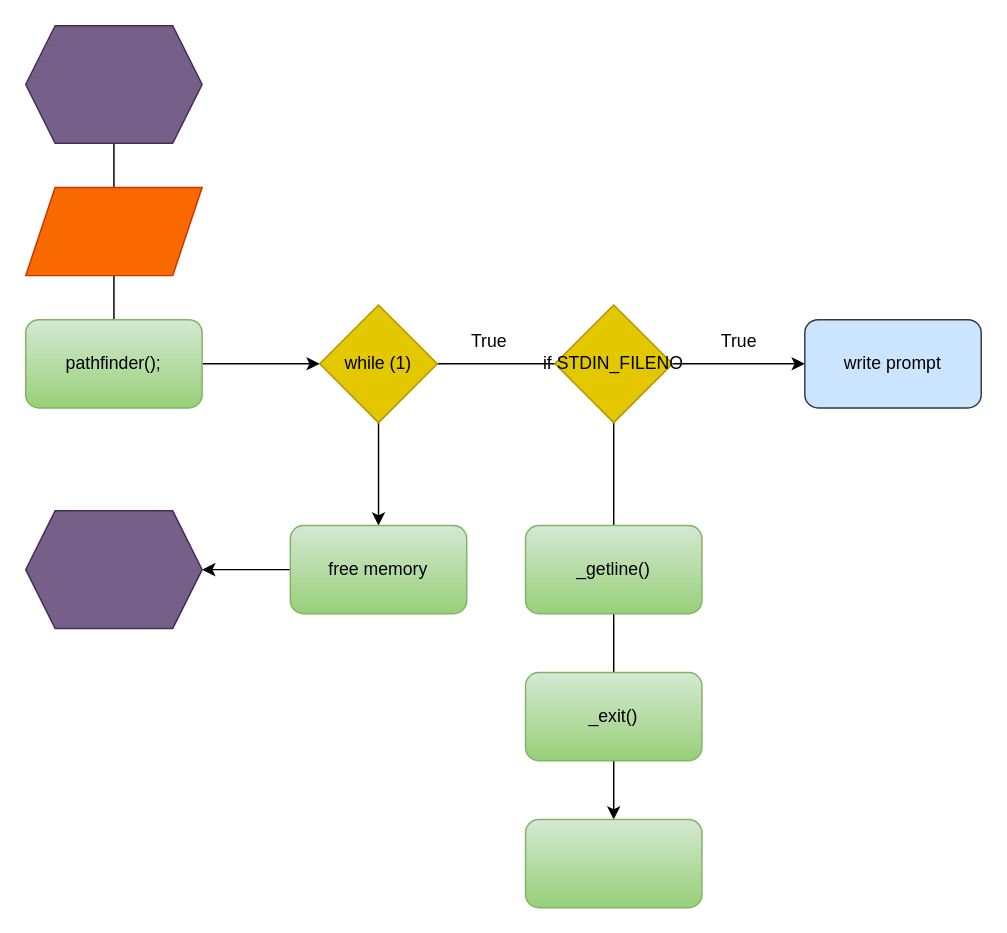
This 1007x933 diagram has some shape labels left out. Here are the shapes that lost their labels. From the top down, the centre of each, then its label:
point (113, 83): Start
point (113, 231): init variables
point (113, 568): End
point (613, 863): pid_printer()
